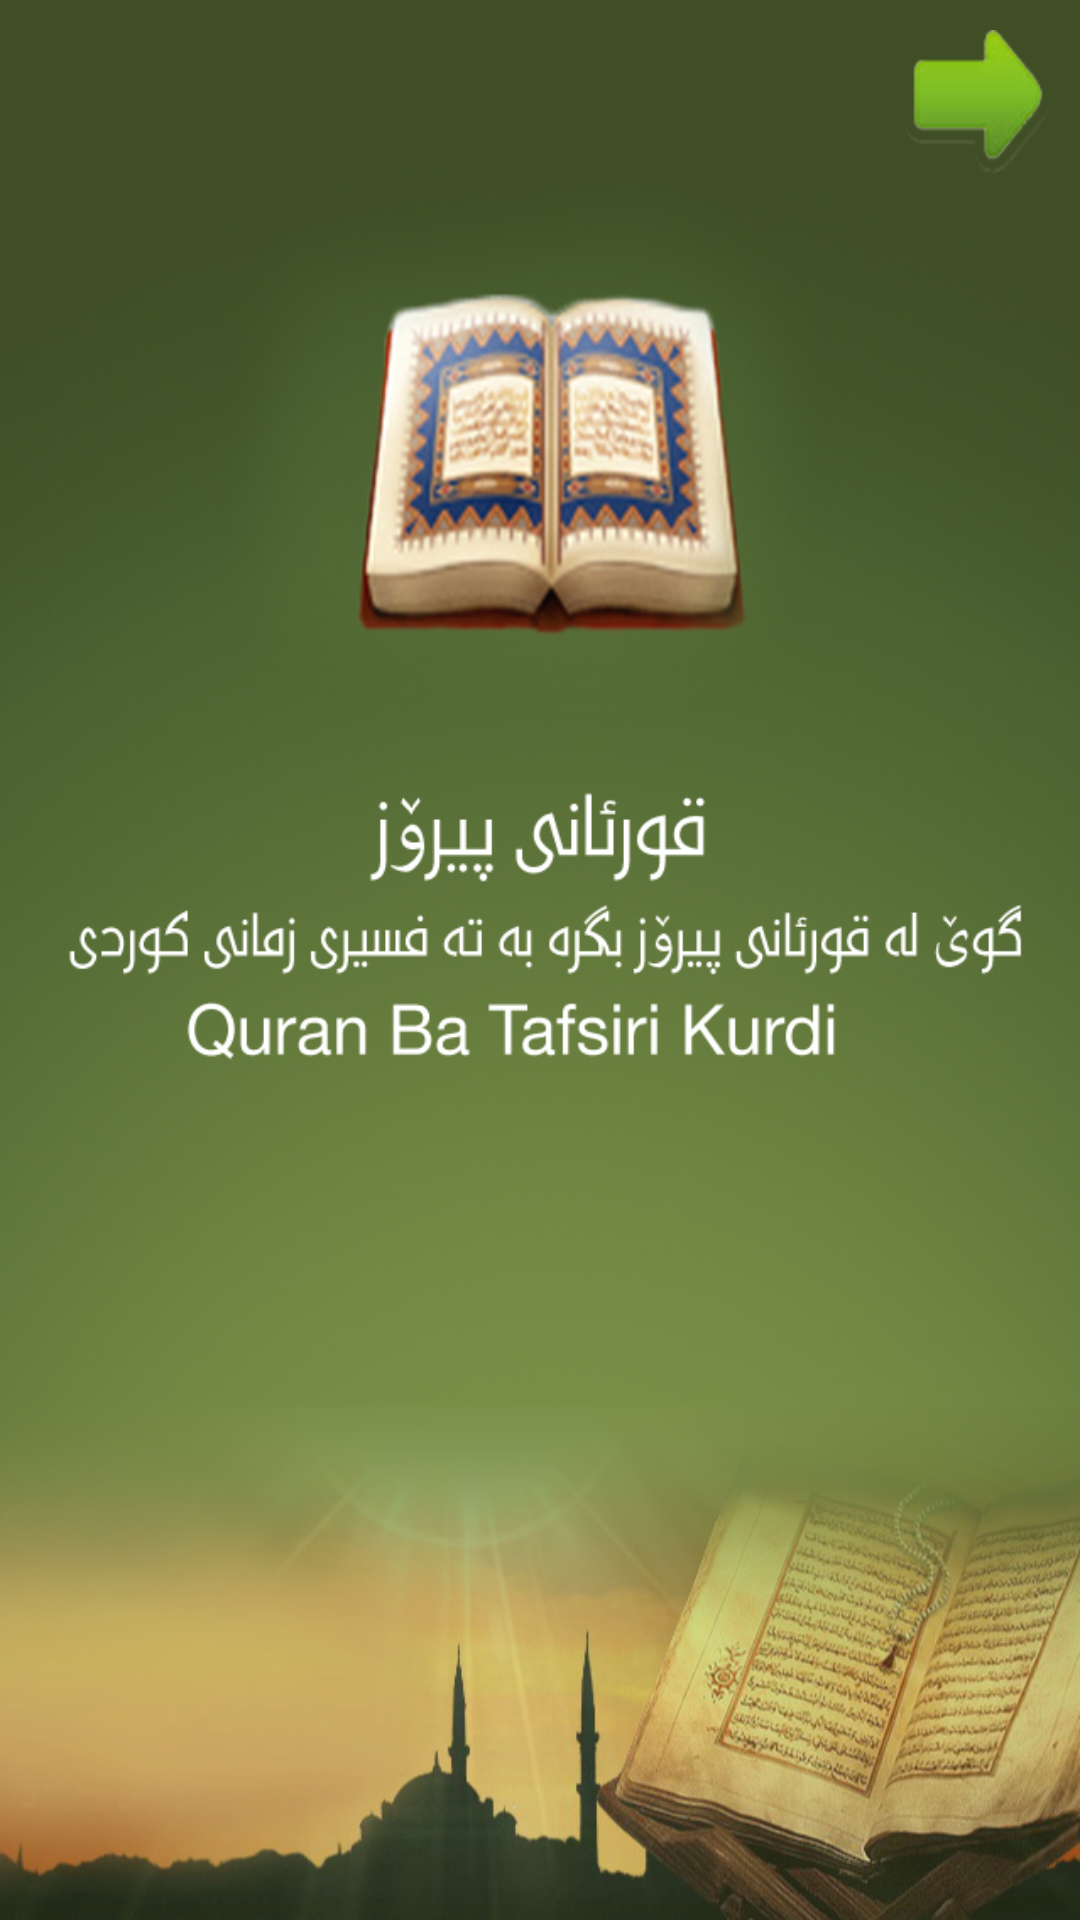

Icons on this 1080 x 1920 Android screen, each with the point to tap as point (x, y):
forward but change: point (978, 94)
